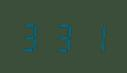one: (77, 20, 105, 53)
three: (48, 19, 76, 53), (18, 19, 46, 52)
